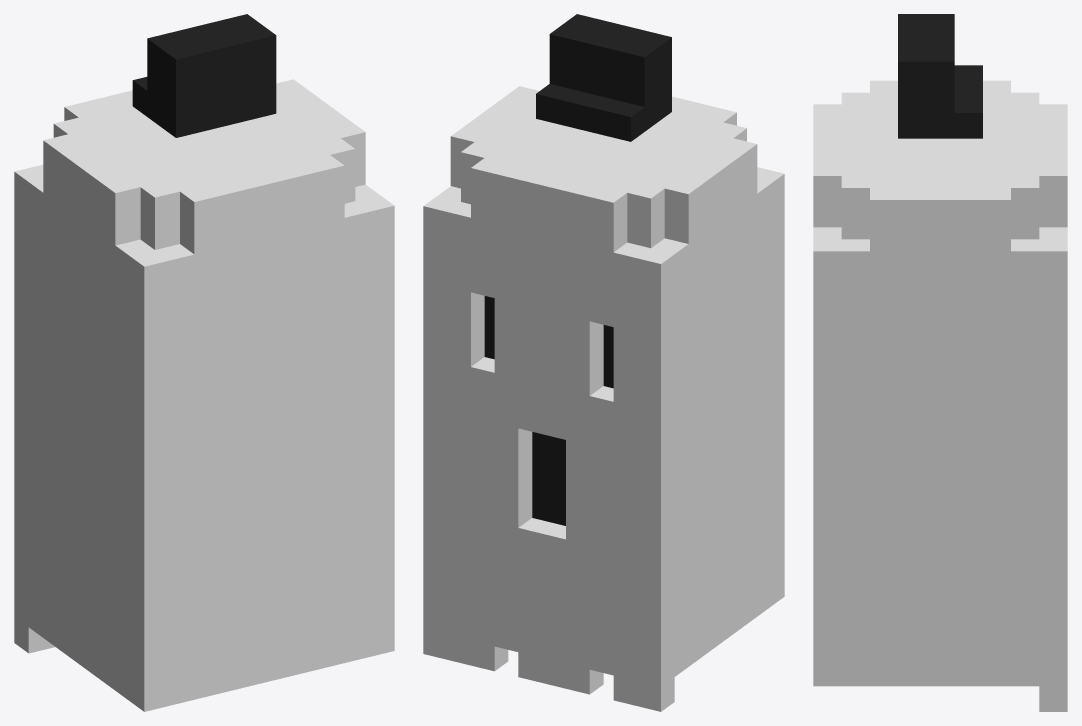
File: Ghost.fbx
3 renders of one model, left to right at view 1: azimuth 30°, elevation 25°; view 2: azimuth 150°, elevation 25°; view 3: azimuth 270°, elevation 25°, orthographic. The views are drawn at different scales.
Parts seen in each view (by area): view 1: ghost; view 2: ghost; view 3: ghost.
Part boxes in pixels (x1=…): ghost: x1=14, y1=14, x2=394, y2=711; ghost: x1=423, y1=14, x2=784, y2=711; ghost: x1=813, y1=14, x2=1067, y2=711.
Bounding box in the file's own units: 1 × 2.4 × 0.9.
Materials: 1 (1 with a texture image).
